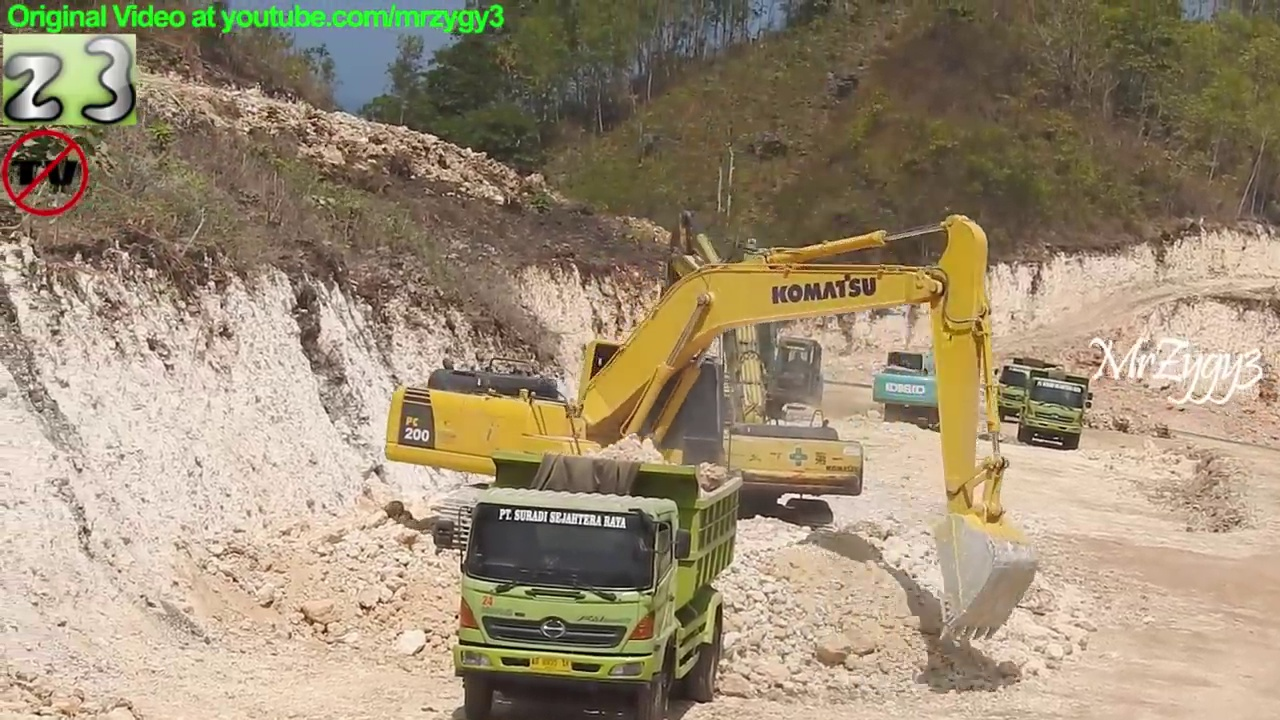excavator: (378, 210, 1044, 650), (616, 213, 869, 536), (698, 237, 831, 431), (871, 262, 993, 433)
truck: (431, 444, 749, 720), (1015, 364, 1098, 455), (992, 352, 1071, 428)
